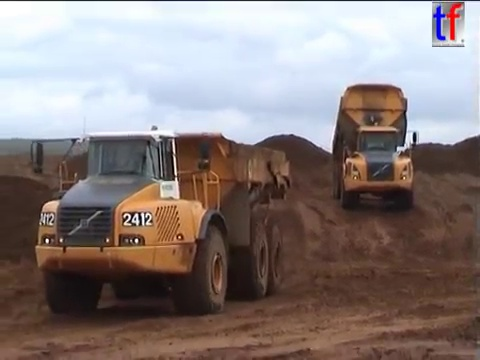truck: (28, 128, 293, 317), (329, 81, 420, 211)
